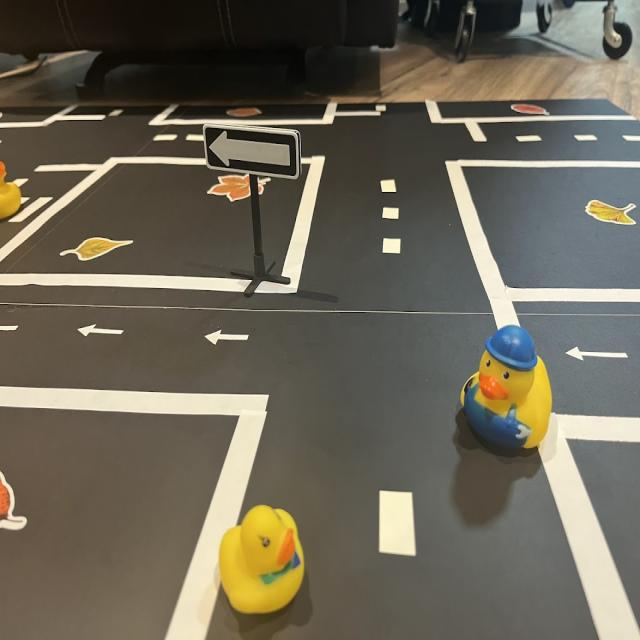duck_regular: (216, 497, 313, 622)
duck_specialty: (452, 324, 558, 458), (1, 150, 27, 222)
road_crosswalk: (1, 187, 61, 229)
road_oneway: (565, 344, 633, 367), (201, 325, 253, 353), (76, 320, 130, 344)
sign_oneway_left: (204, 122, 303, 182)
